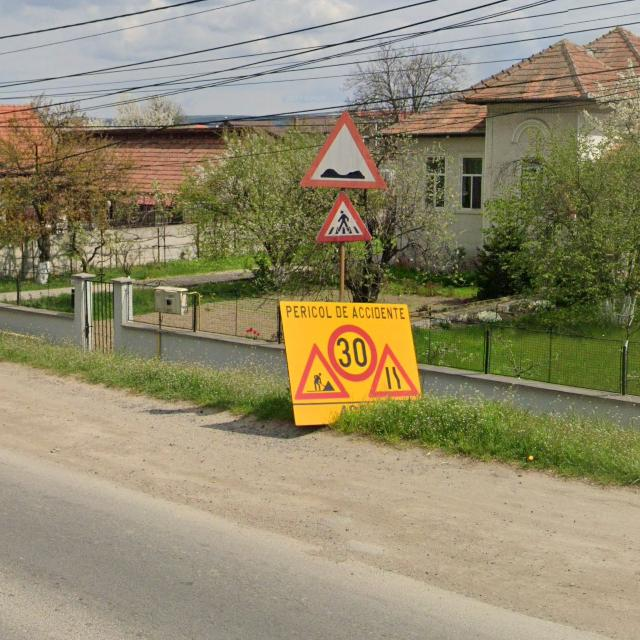forb_speed_over_40: (328, 323, 376, 382)
warn_construction: (294, 342, 348, 400)
warn_crosswalk: (316, 190, 372, 242)
warn_poor_road_surface: (298, 108, 387, 190)
